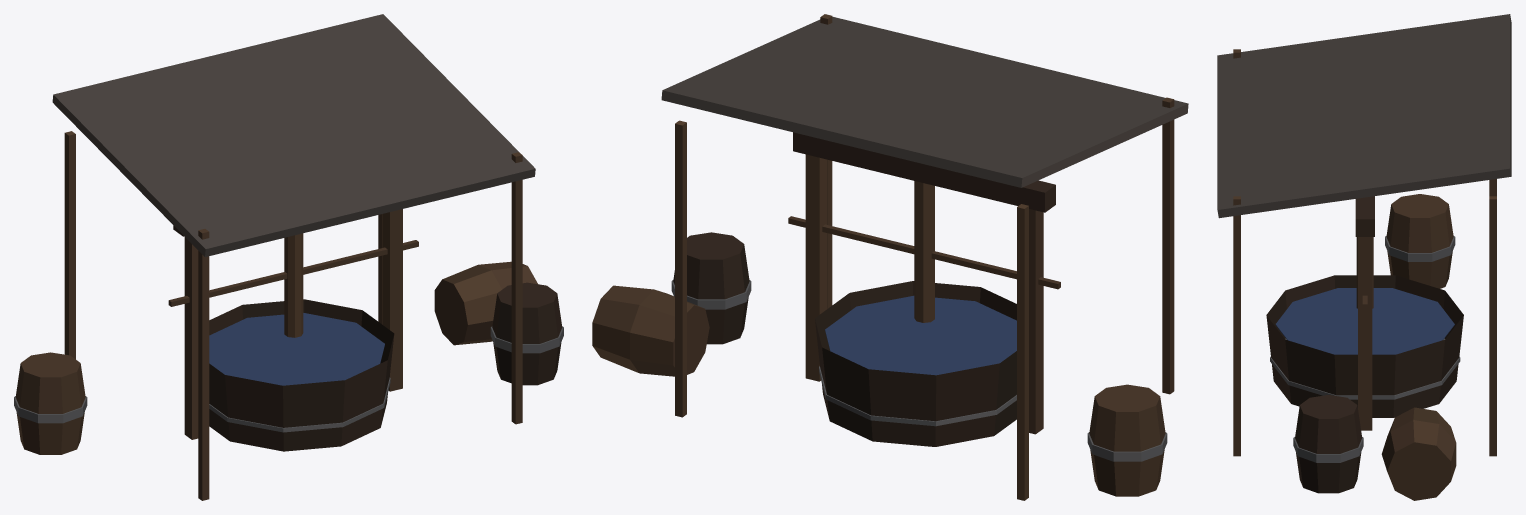
The model's file is walk_prop_press.glb.
3 views of the same model, side by side, from view 1: azimuth 30°, elevation 25°; view 2: azimuth 150°, elevation 25°; view 3: azimuth 270°, elevation 25° (orthographic). The views are drawn at different scales.
Visible parts, largest first — view 1: walk_prop_press_roof, walk_prop_press; view 2: walk_prop_press, walk_prop_press_roof; view 3: walk_prop_press_roof, walk_prop_press.
Boxes of the visible parts, x1,y1,x2,y2 form: walk_prop_press_roof: [52, 14, 535, 256]; walk_prop_press: [14, 131, 563, 500]; walk_prop_press: [592, 14, 1174, 500]; walk_prop_press_roof: [661, 16, 1188, 187]; walk_prop_press_roof: [1217, 14, 1511, 218]; walk_prop_press: [1233, 49, 1496, 500].
Size of what is drawn, in the model's own units: 6.14 by 3.53 by 3.22.
Materials: 2 (2 with a texture image).
